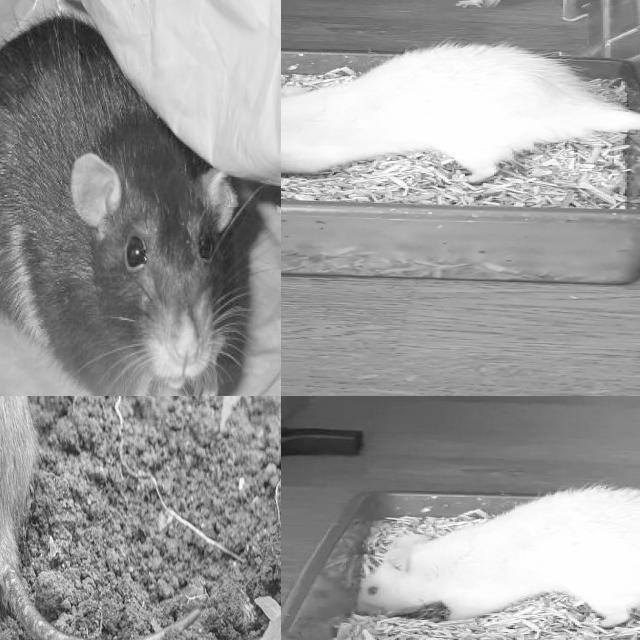rat: (0, 17, 242, 396), (281, 43, 621, 182), (334, 487, 640, 630)
